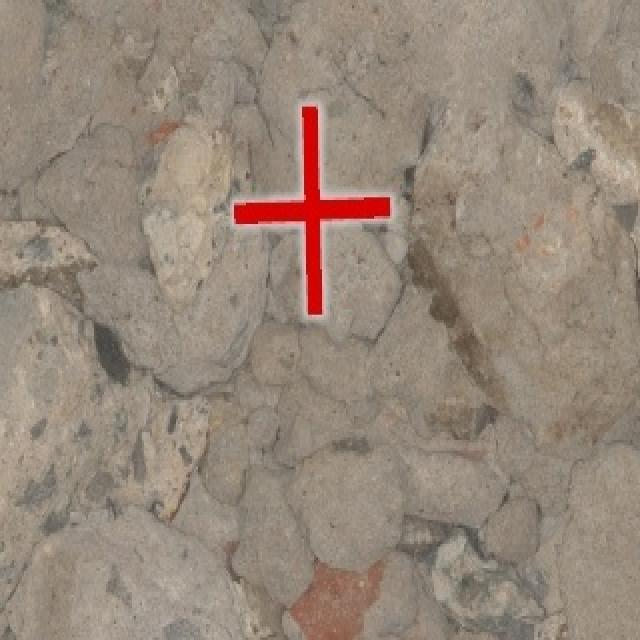x_marker: (233, 105, 391, 314)
